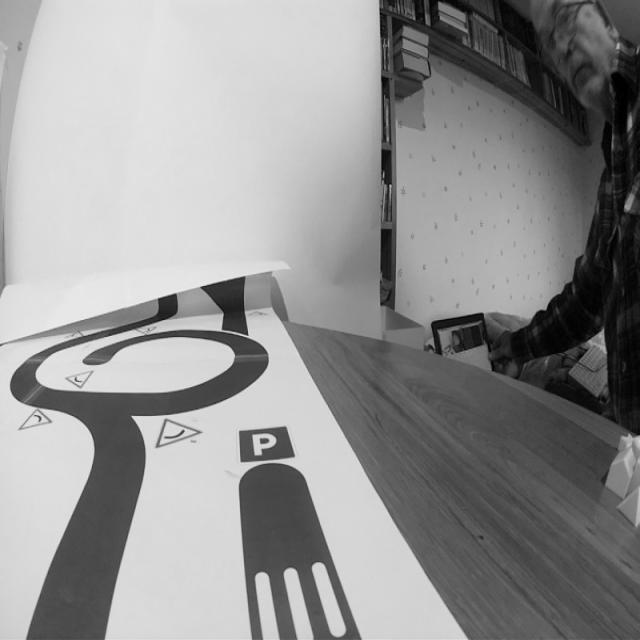Parking: (234, 422, 299, 472)
zebracross: (232, 550, 370, 640)
